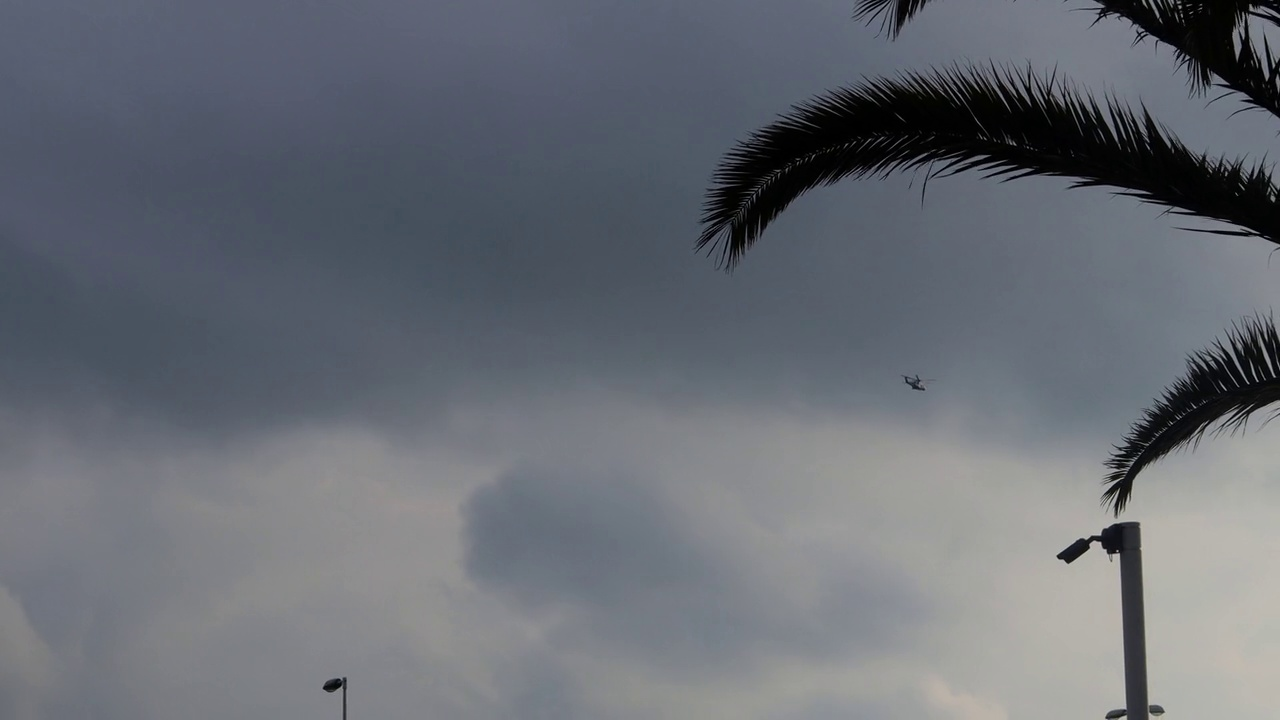heli: (900, 373, 936, 391)
